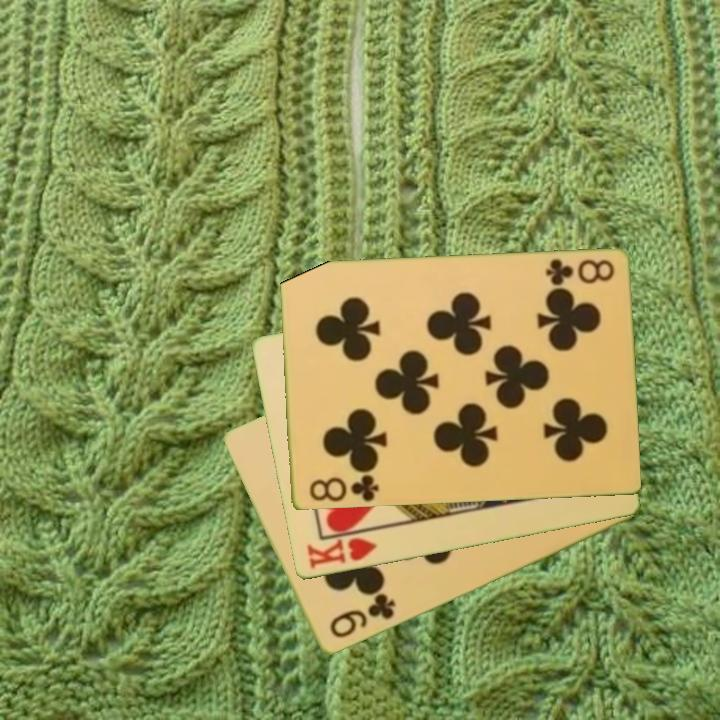8c: (306, 468, 382, 505), (541, 256, 616, 289)
9c: (326, 590, 399, 642)
Kh: (303, 526, 383, 573)
